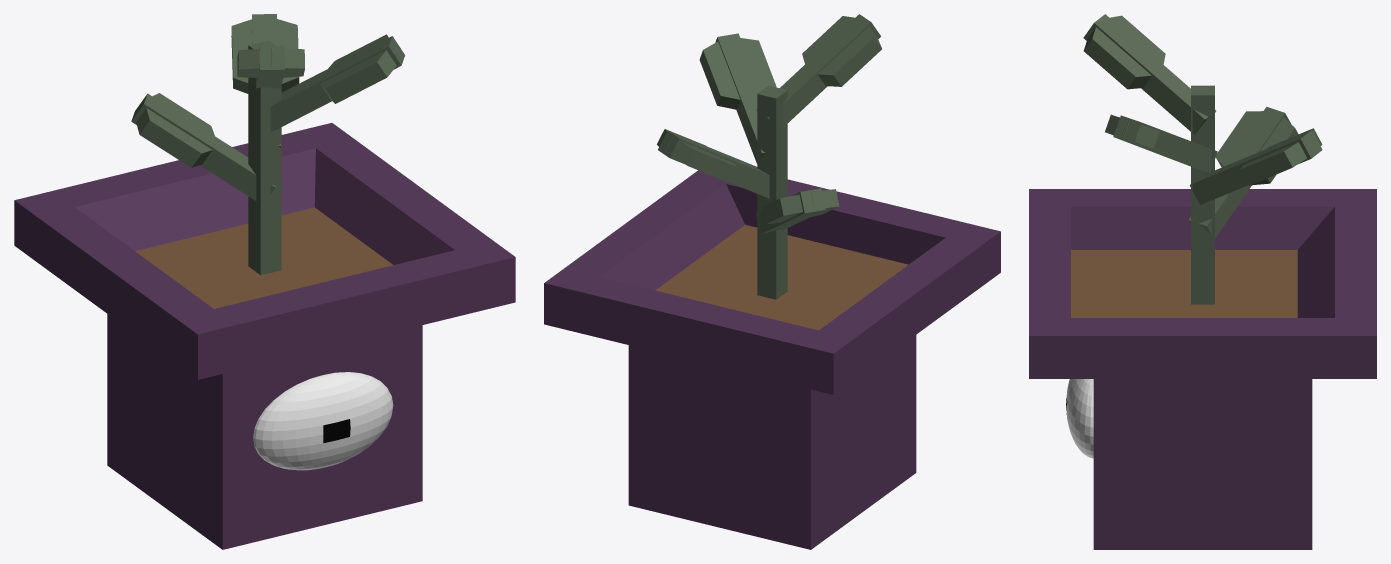
The model's file is Gympie.fbx.
3 renders of one model, left to right at view 1: azimuth 30°, elevation 25°; view 2: azimuth 150°, elevation 25°; view 3: azimuth 270°, elevation 25°, orthographic. The views are drawn at different scales.
Parts seen in each view (by area): view 1: Cube, Cube.001; view 2: Cube, Cube.001; view 3: Cube, Cube.001.
Part boxes in pixels (left/top/right/bottom): Cube: left=14, top=123, right=515, bottom=549; Cube.001: left=131, top=14, right=405, bottom=275; Cube: left=544, top=170, right=1000, bottom=549; Cube.001: left=657, top=14, right=881, bottom=299; Cube: left=1029, top=189, right=1376, bottom=549; Cube.001: left=1083, top=14, right=1322, bottom=304.
Bounding box in the file's own units: 318 × 467 × 318.
